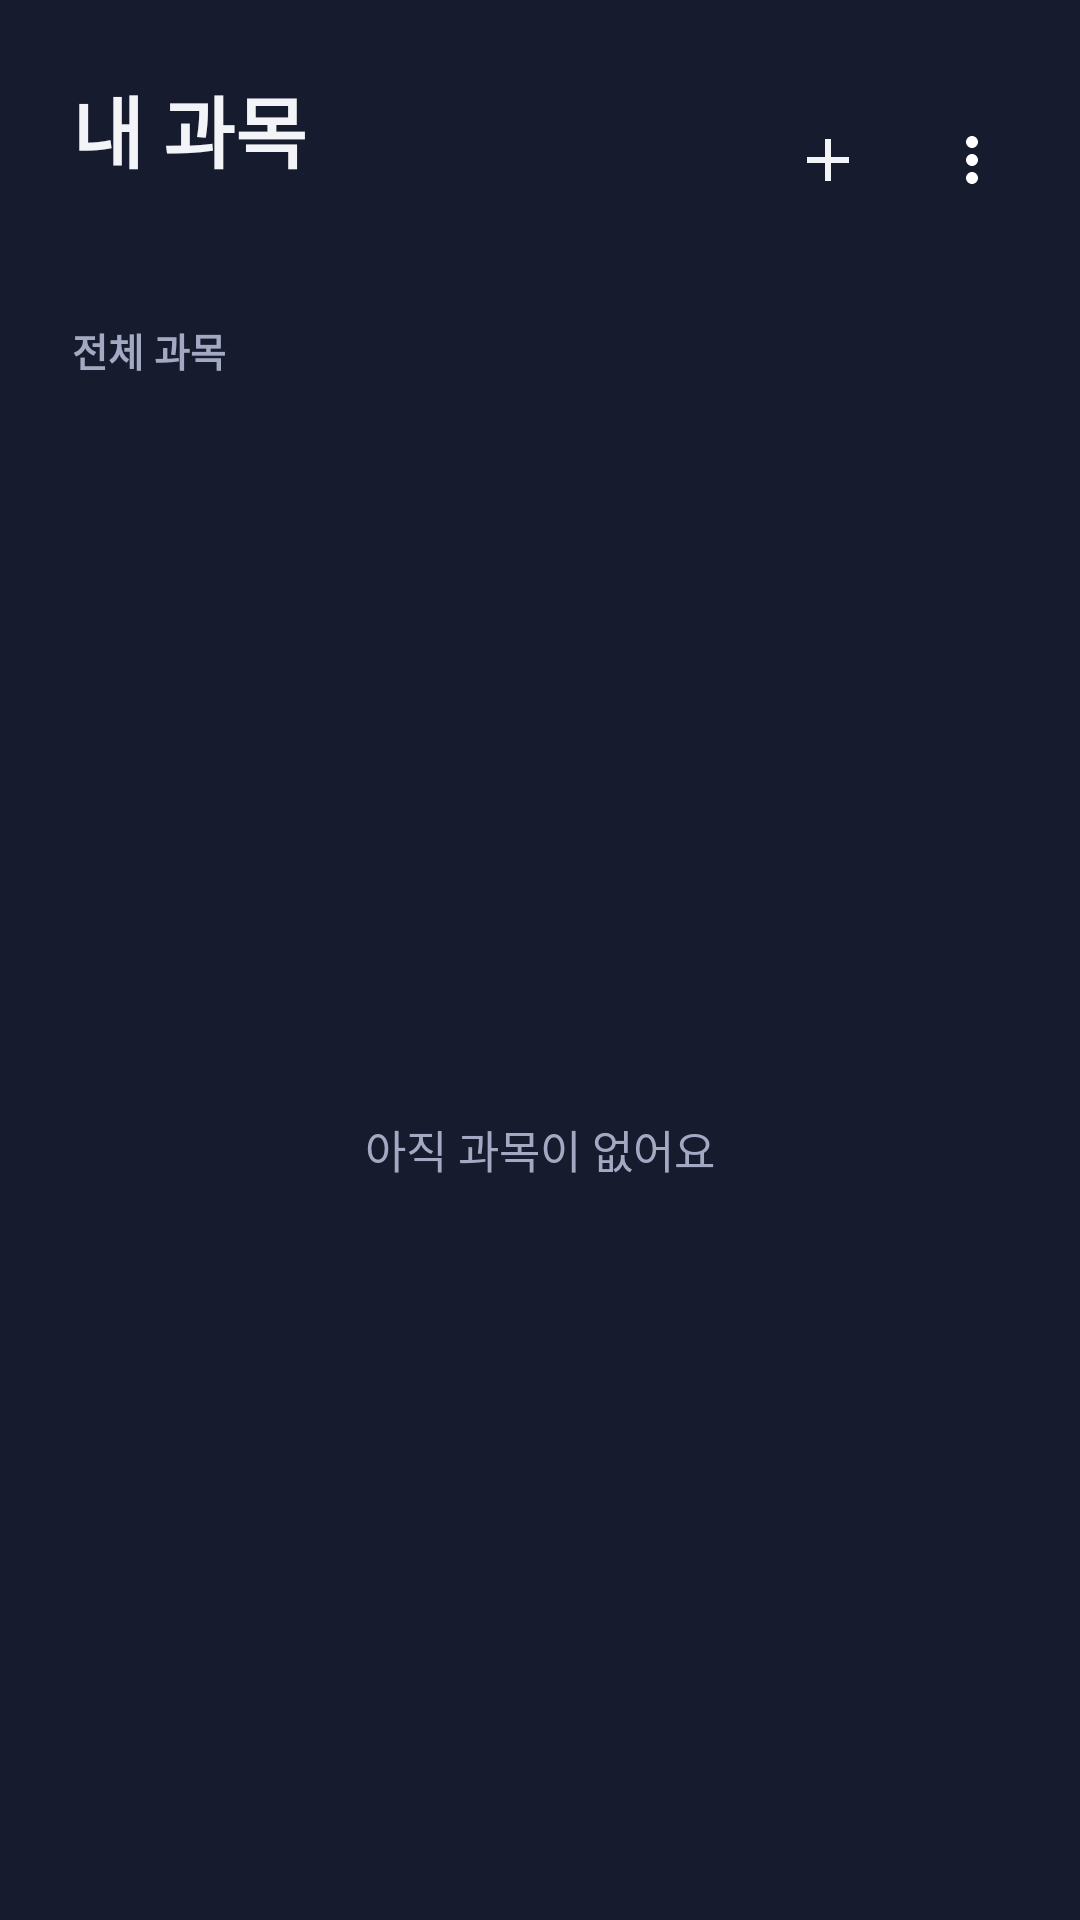

Locate icon controls on the screen. Image size 1080 × 1920, boxes as bbox(x1, y1, x2, y2).
과목 추가: bbox(807, 139, 849, 181)
메뉴: bbox(966, 136, 978, 184)
